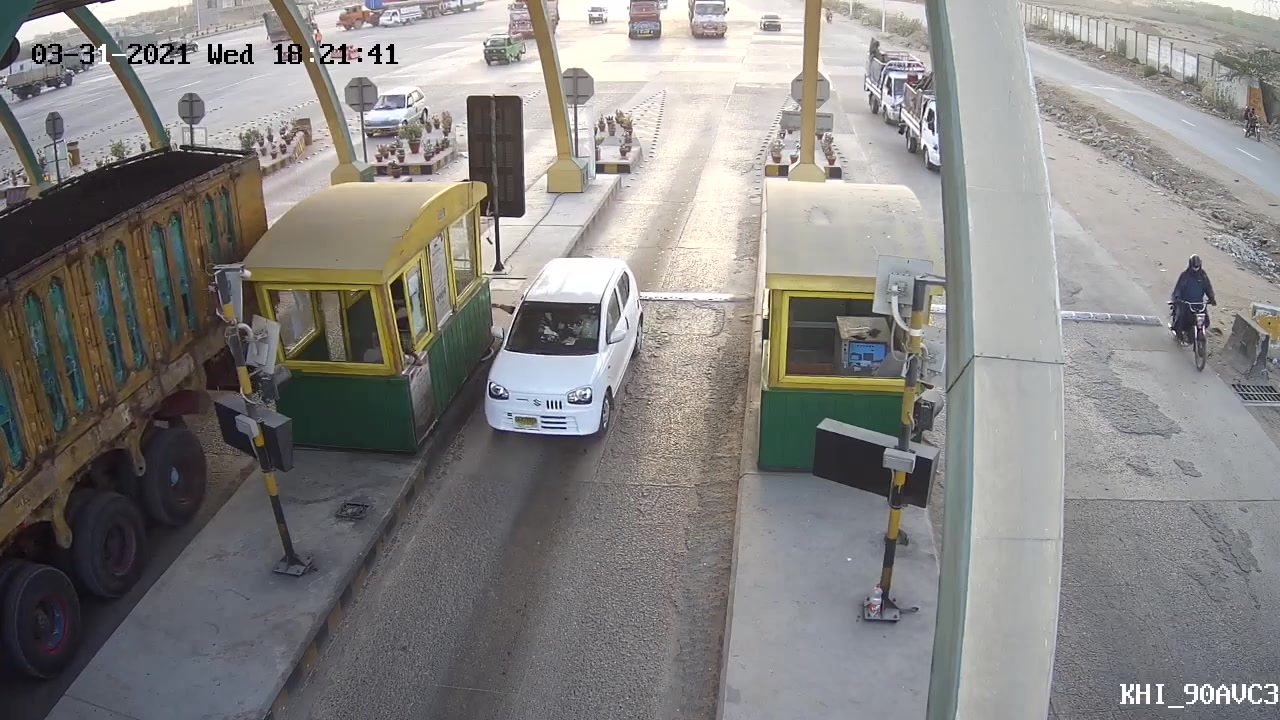F1: (476, 247, 651, 442)
